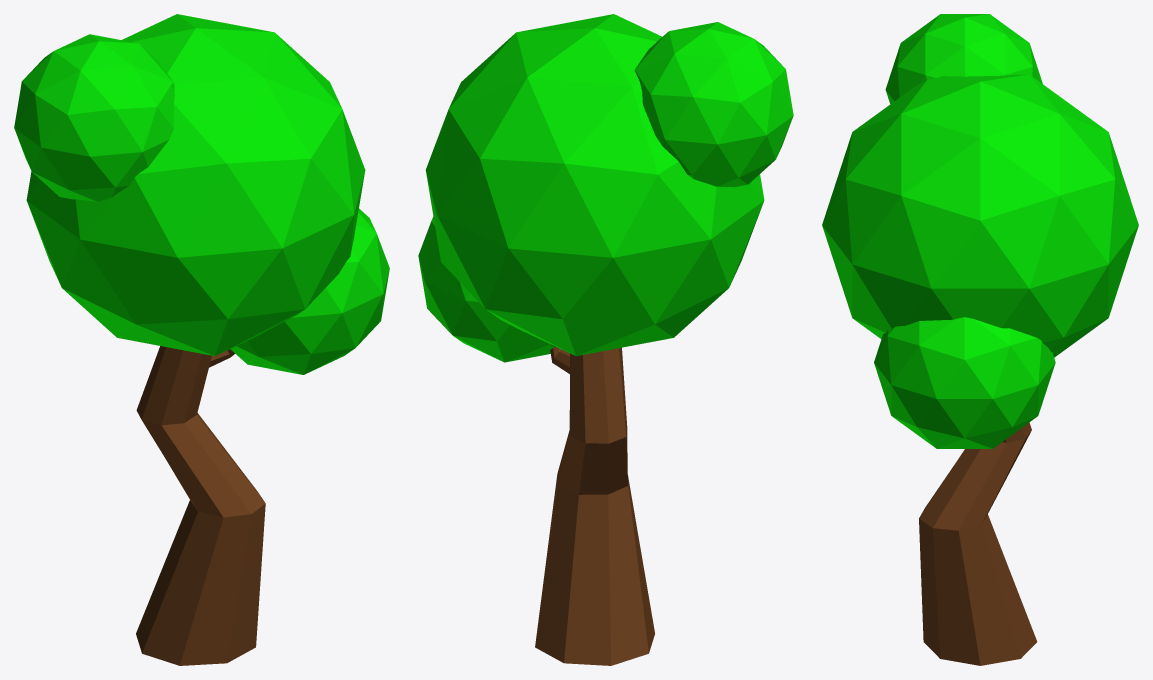
Rendered from Arbol.003.glb.
The picture shows the model from 3 angles, left to right: view 1: azimuth 30°, elevation 25°; view 2: azimuth 150°, elevation 25°; view 3: azimuth 270°, elevation 25°; orthographic projection. The views are drawn at different scales.
Visible parts, largest first — view 1: Arbol.003; view 2: Arbol.003; view 3: Arbol.003.
Part boxes in pixels (x1,y1,x2,y2): Arbol.003: (14,14,389,665); Arbol.003: (418,14,793,665); Arbol.003: (822,14,1138,665).
Size of the model in its own units: 15.62 by 27.16 by 13.51.
